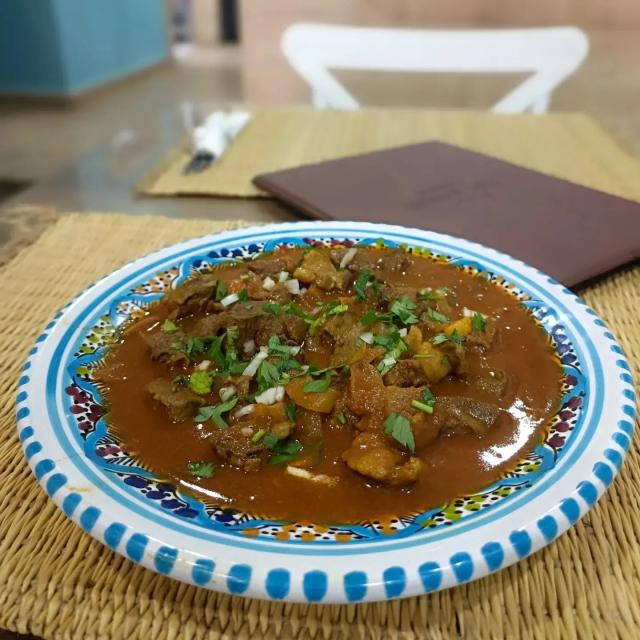kamouniya: (18, 216, 623, 639)
